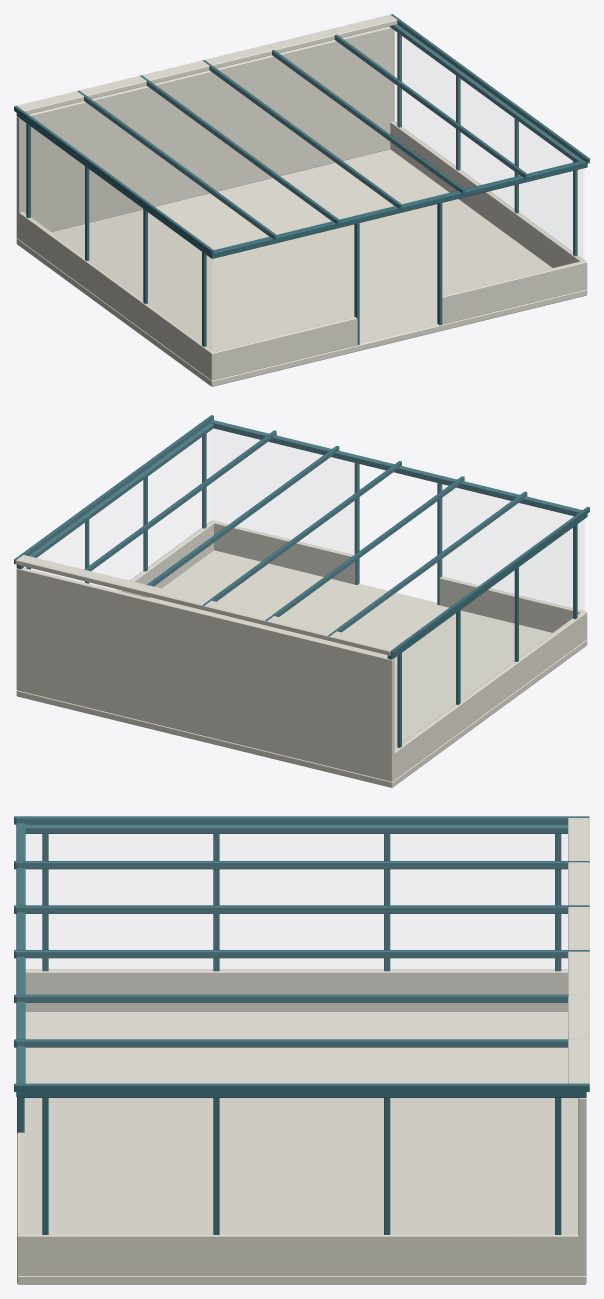
The model's file is optician-and-optical-lens-workshop-optician-and-optica-7d0f051d__31666.glb.
The picture shows the model from 3 angles, top to bottom: view 1: azimuth 30°, elevation 25°; view 2: azimuth 150°, elevation 25°; view 3: azimuth 270°, elevation 25°; orthographic projection. The views are drawn at different scales.
Visible parts, largest first — view 1: optician-and-optical-lens-workshop-roofed-opticians-shop; view 2: optician-and-optical-lens-workshop-roofed-opticians-shop; view 3: optician-and-optical-lens-workshop-roofed-opticians-shop.
Part boxes in pixels (x1,y1,x2,y2): optician-and-optical-lens-workshop-roofed-opticians-shop: (14,14,589,386); optician-and-optical-lens-workshop-roofed-opticians-shop: (14,415,589,787); optician-and-optical-lens-workshop-roofed-opticians-shop: (14,816,589,1284).
Size of the model in its own units: 10.07 by 3.52 by 9.1.
